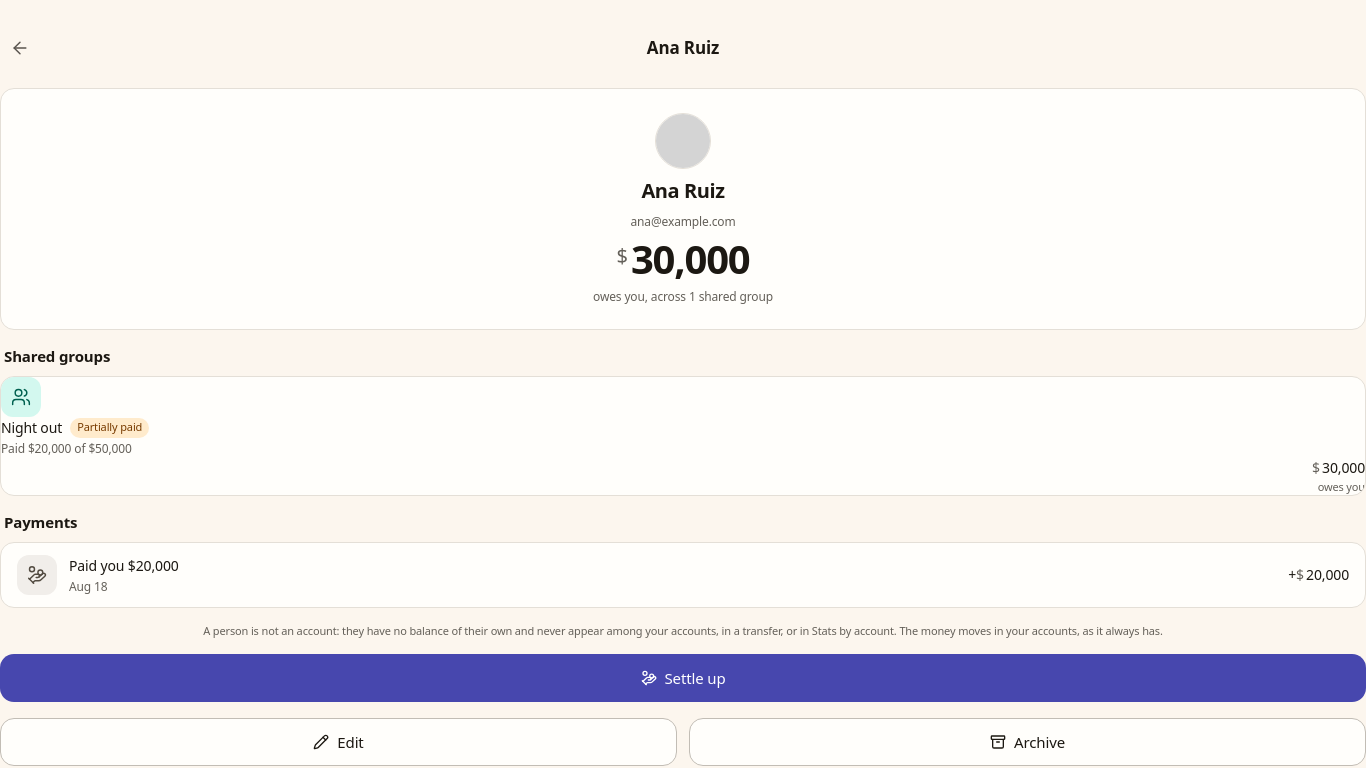
PersonScreen › undoes a payment from its row, saying what goes with it
Click the button "Paid you $20,000 Aug 18 +$20,000".
click(37, 575)  # box [1,543,1365,607]
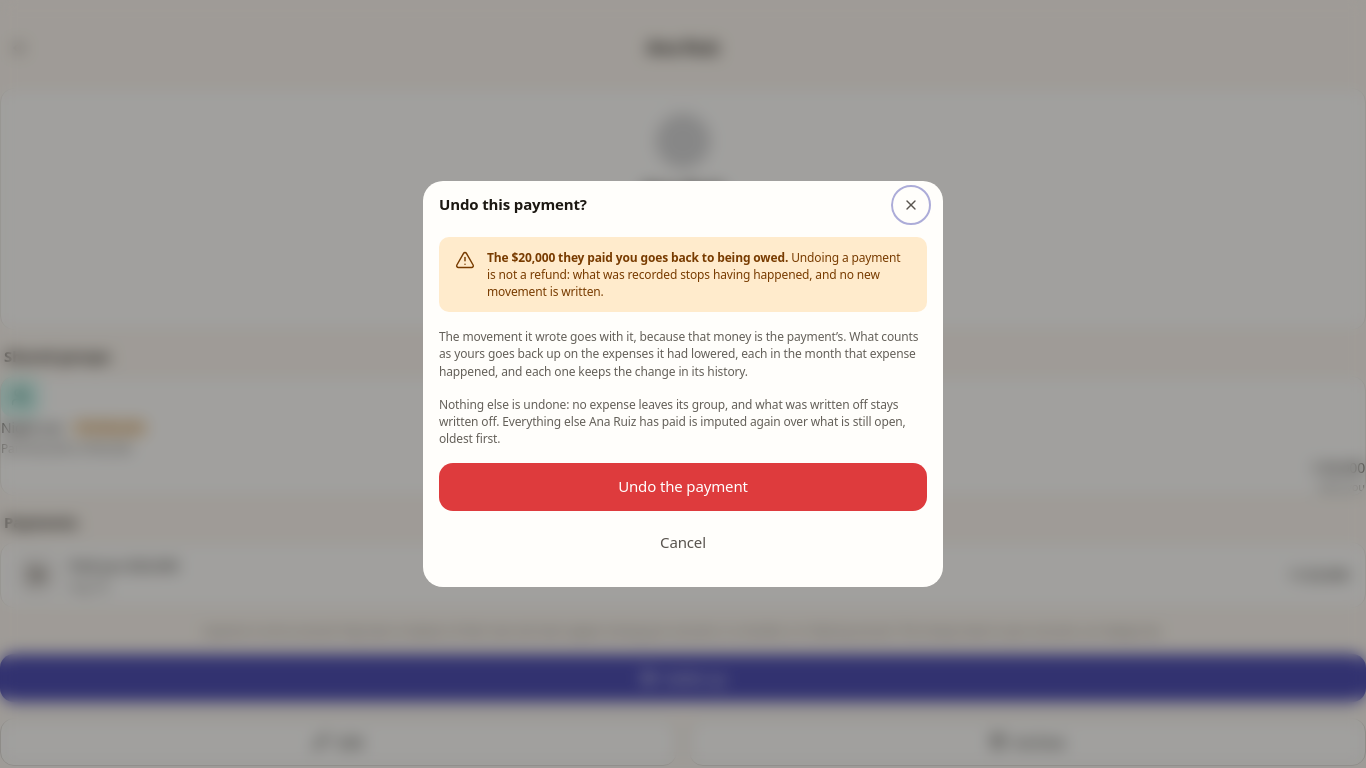
Result: the dialog "Undo this payment?" shows "The $20,000 they paid you goes back to being owed" at [487,249,788,266]
Result: the dialog "Undo this payment?" shows "The movement it wrote goes with it" at [439,328,846,345]
Result: the dialog "Undo this payment?" shows "what was written off stays written off" at [439,396,906,447]
Click the 1st button named "Undo the payment".
click(683, 487)  # box [439,463,927,511]
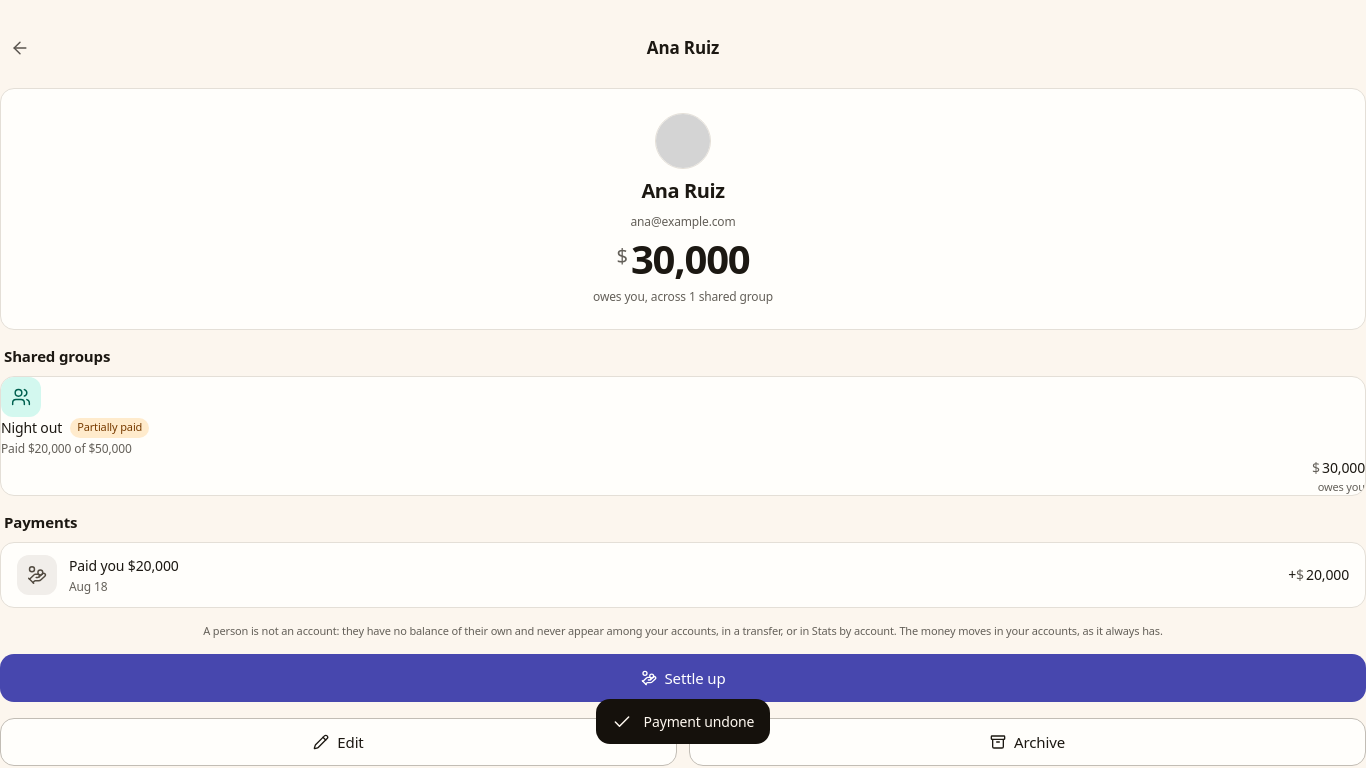
Result: the text "Payment undone" is shown at [596,699,770,744]
